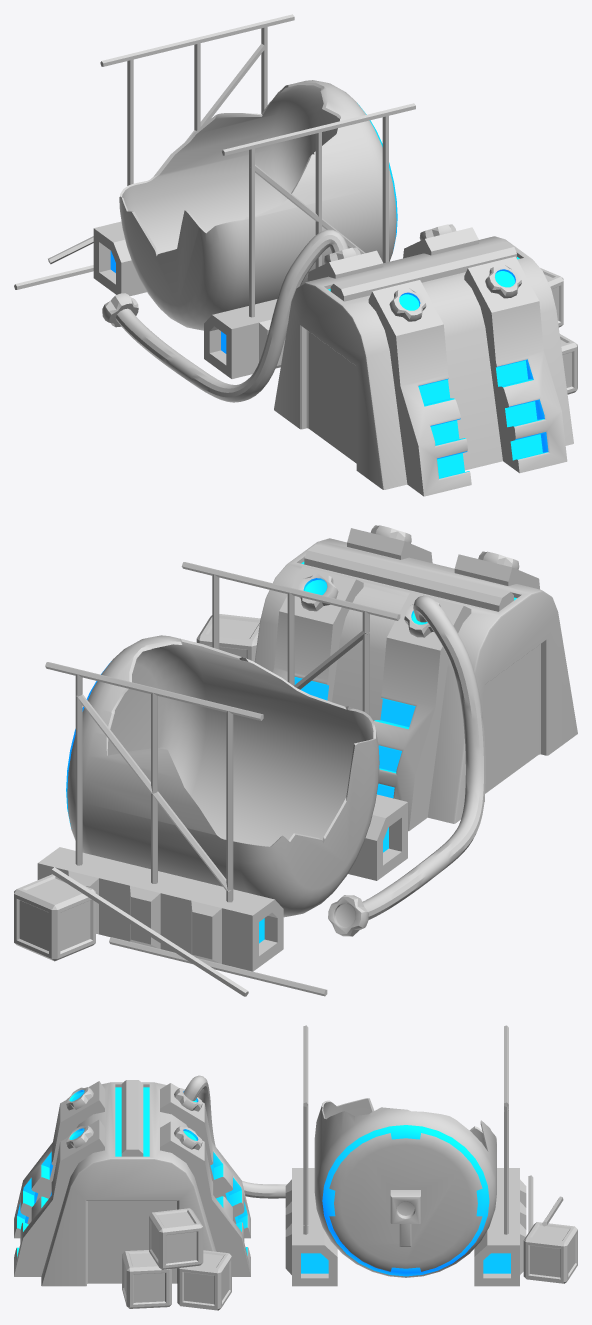
File: OutpostB.fbx
The picture shows the model from 3 angles, top to bottom: view 1: azimuth 30°, elevation 25°; view 2: azimuth 150°, elevation 25°; view 3: azimuth 270°, elevation 25°; orthographic projection. The views are drawn at different scales.
Parts seen in each view (by area): view 1: Outpost B; view 2: Outpost B; view 3: Outpost B.
Part boxes in pixels (bbox=[...]): Outpost B: bbox=[14, 14, 577, 496]; Outpost B: bbox=[14, 525, 577, 996]; Outpost B: bbox=[14, 1025, 577, 1310].
Size of the model in its own units: 340 by 224 by 619.
